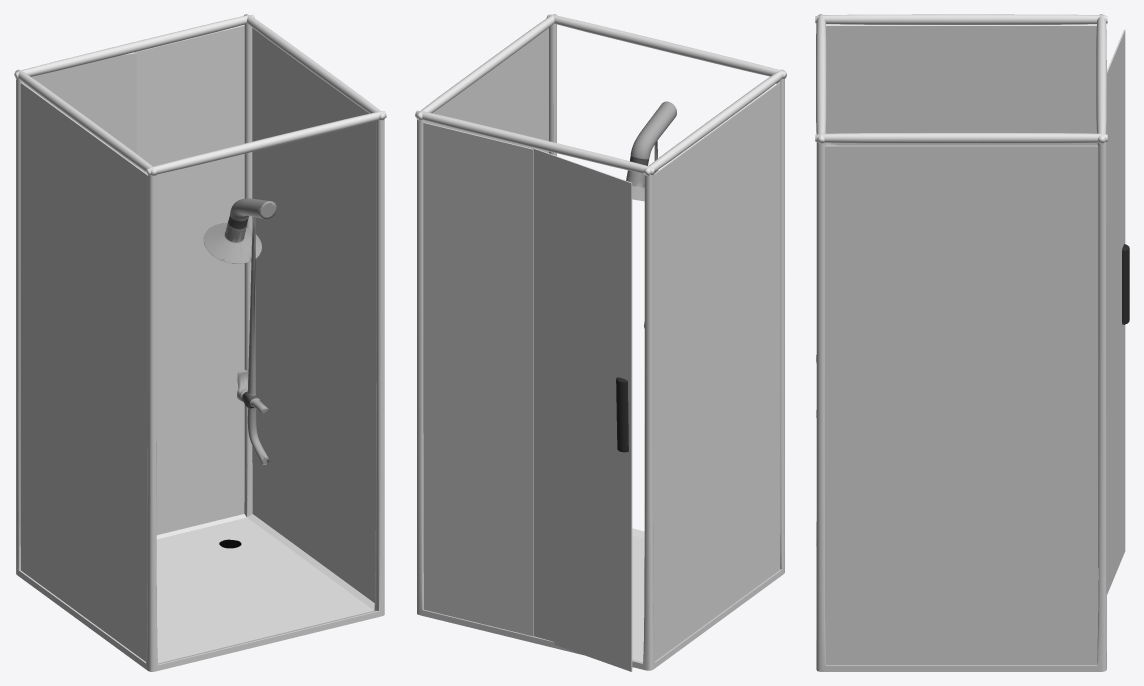
The model's file is douche.glb.
The picture shows the model from 3 angles, left to right: view 1: azimuth 30°, elevation 25°; view 2: azimuth 150°, elevation 25°; view 3: azimuth 270°, elevation 25°; orthographic projection. The views are drawn at different scales.
Parts seen in each view (by area): view 1: Cube.001_Material.007_0, Cube_Material.001_0; view 2: Cube.001_Material.007_0, Cube_Material.001_0; view 3: Cube.001_Material.007_0, Cube_Material.001_0.
Boxes of the visible parts, x1=… form: Cube.001_Material.007_0: x1=20, y1=25, x2=376, y2=661; Cube_Material.001_0: x1=14, y1=14, x2=386, y2=671; Cube.001_Material.007_0: x1=423, y1=28, x2=780, y2=671; Cube_Material.001_0: x1=415, y1=14, x2=786, y2=670; Cube.001_Material.007_0: x1=825, y1=25, x2=1125, y2=665; Cube_Material.001_0: x1=815, y1=14, x2=1129, y2=671.
Bounding box in the file's own units: 201 × 407 × 216.
Materials: 2 (2 with a texture image).
